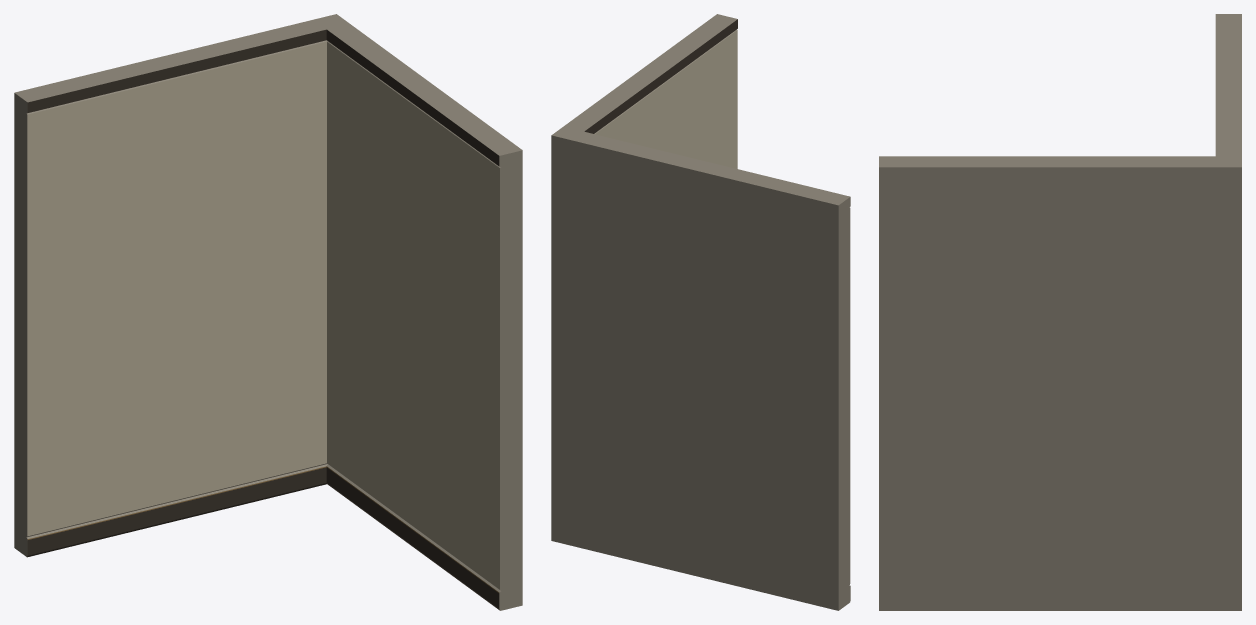
The model's file is mall-wall-corner-2m-lod2.glb.
The picture shows the model from 3 angles, left to right: view 1: azimuth 30°, elevation 25°; view 2: azimuth 150°, elevation 25°; view 3: azimuth 270°, elevation 25°; orthographic projection. The views are drawn at different scales.
Visible parts, largest first — view 1: West Distant finish bands, Return Distant finish bands; view 2: West Distant finish bands, Return Distant finish bands; view 3: Return Distant finish bands, West Distant finish bands.
Boxes of the visible parts, x1,y1,x2,y2 form: West Distant finish bands: [14, 14, 336, 557]; Return Distant finish bands: [326, 14, 522, 610]; West Distant finish bands: [551, 131, 850, 610]; Return Distant finish bands: [552, 14, 737, 168]; Return Distant finish bands: [879, 156, 1241, 610]; West Distant finish bands: [1215, 14, 1241, 166].
Bounding box in the file's own units: 2.08 × 2.8 × 2.08.
